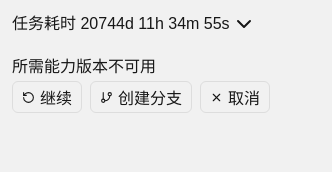
Test: AssistantExecutionTimeline › executes recovery actions and reports results
The image size is (332, 172).
Click the button "继续".
click(47, 97)  # box [12,81,82,113]
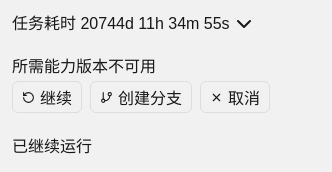
expect the text "已继续运行" is shown: met, box [12,138,92,155]
Click the button "创建分支".
click(141, 97)  # box [90,81,192,113]
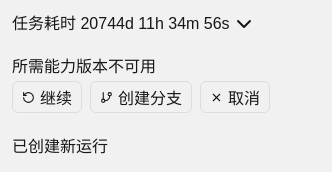
expect the text "已创建新运行" is shown: met, box [12,138,108,155]
Click the button "取消".
click(235, 97)  # box [200,81,270,113]
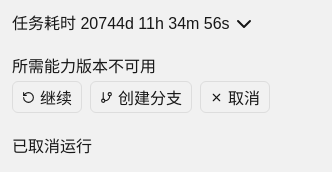
expect the text "已取消运行" is shown: met, box [12,138,92,155]
